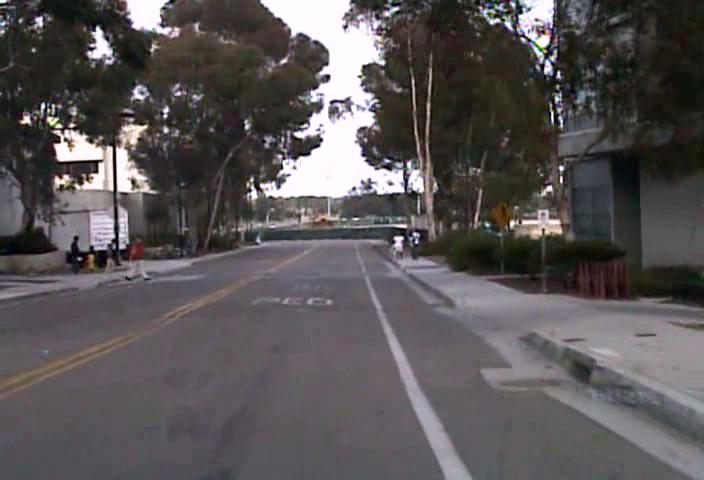pedestrianCrossing: (488, 197, 514, 229)
